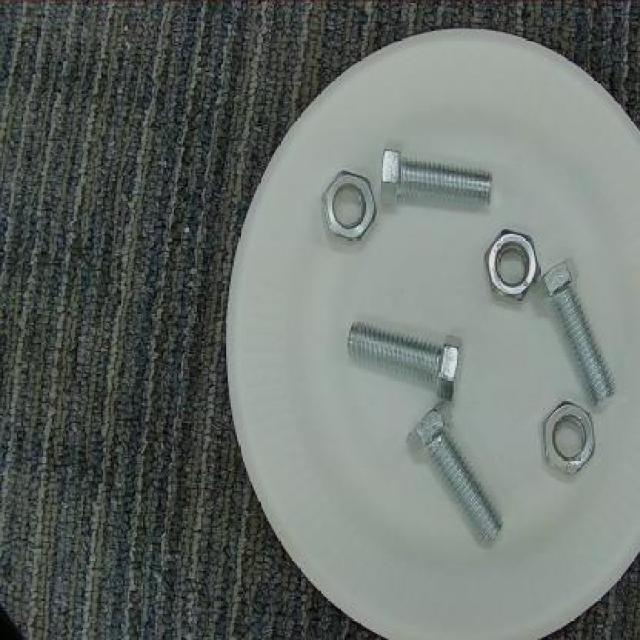Bolt: (402, 404, 510, 550), (534, 254, 624, 406), (345, 317, 465, 400), (377, 144, 501, 210)
Nut: (482, 220, 542, 306), (538, 397, 598, 483), (318, 165, 384, 243)
